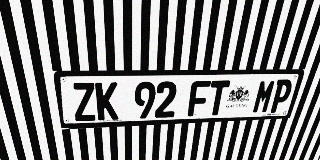2: (155, 81, 177, 118)
9: (135, 81, 156, 119)
F: (187, 81, 211, 116)
K: (95, 82, 118, 120)
M: (251, 80, 277, 114)
P: (268, 79, 294, 113)
T: (206, 80, 230, 116)
Z: (71, 82, 97, 121)
